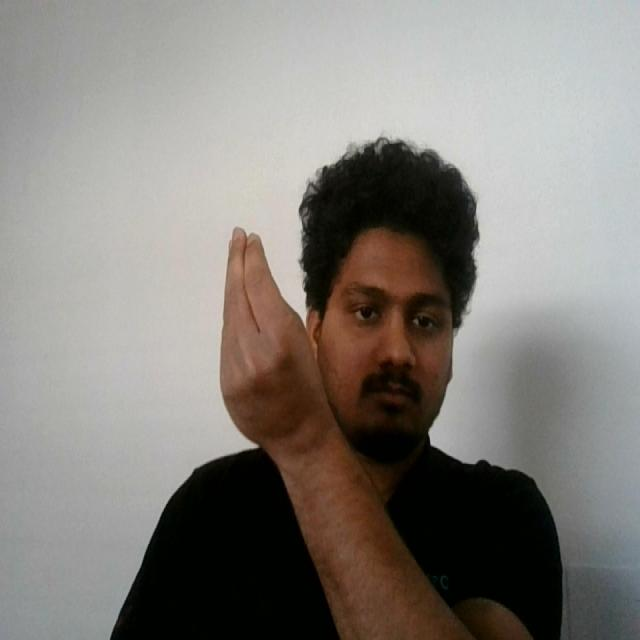Please: (210, 216, 339, 471)
